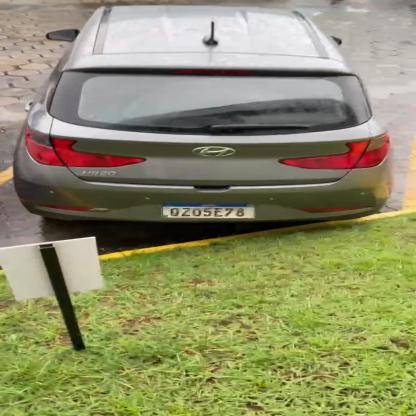Plate: (160, 200, 260, 222)
